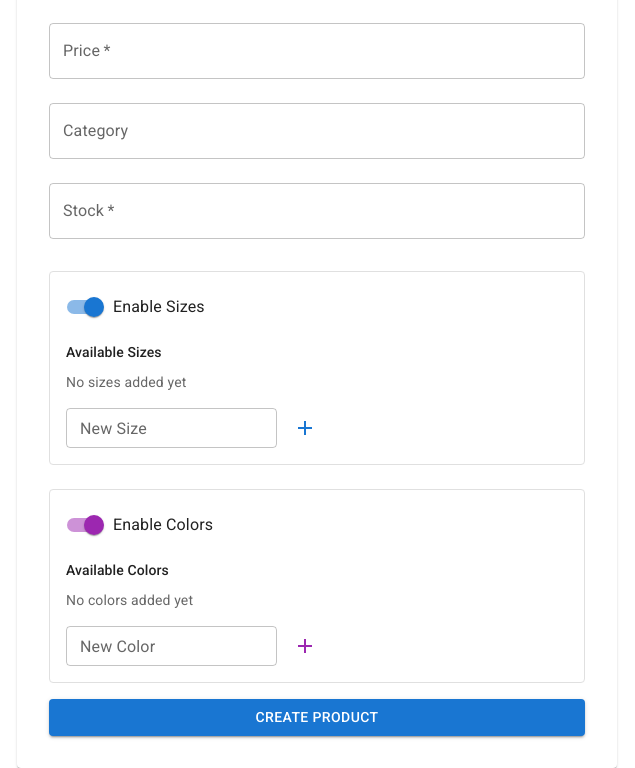
AdminProductForm Component › Form Functionality › should handle color management
(page scrolled)
Type "Red" into the field with placeholder "e.g., Red, Blue, Green" at x=172, y=646, box [66,626,277,666]
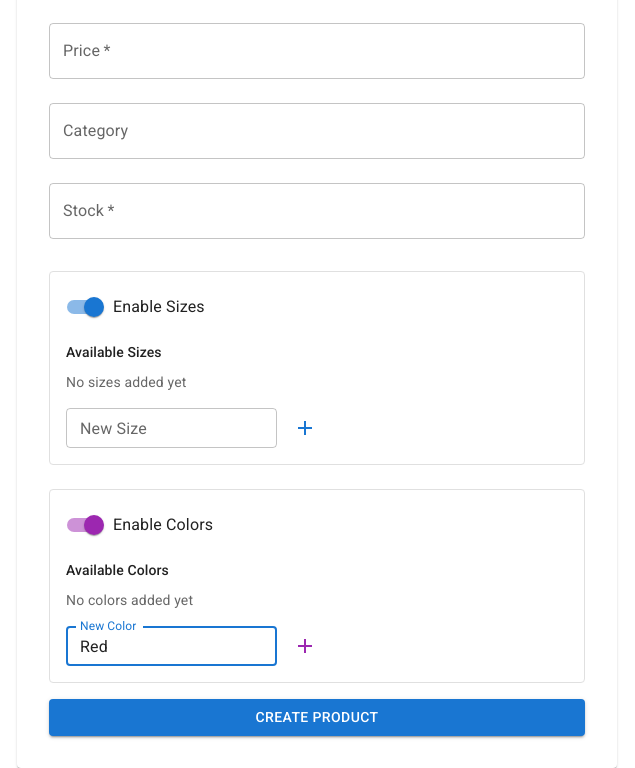
Click the button named "add color" at x=305, y=646, box [285,626,325,666]
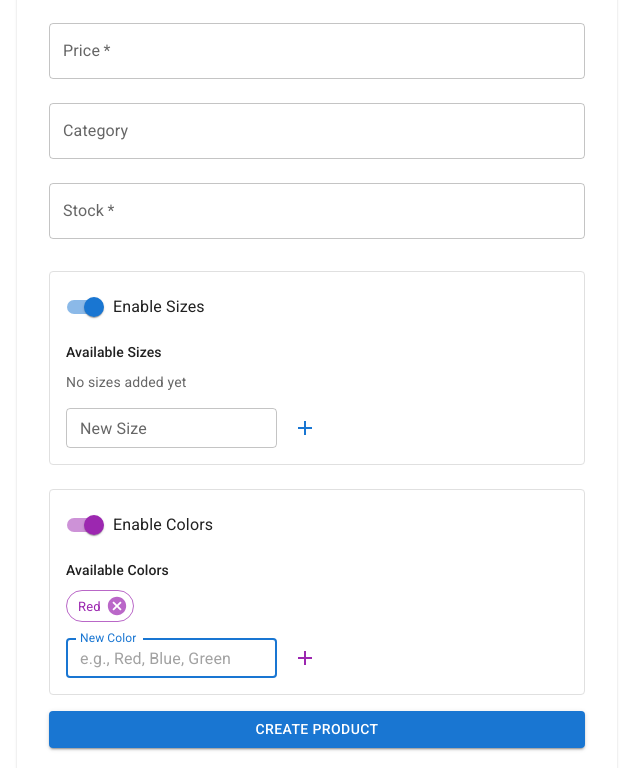
Result: the text "Red" is shown at [78,599,101,614]
